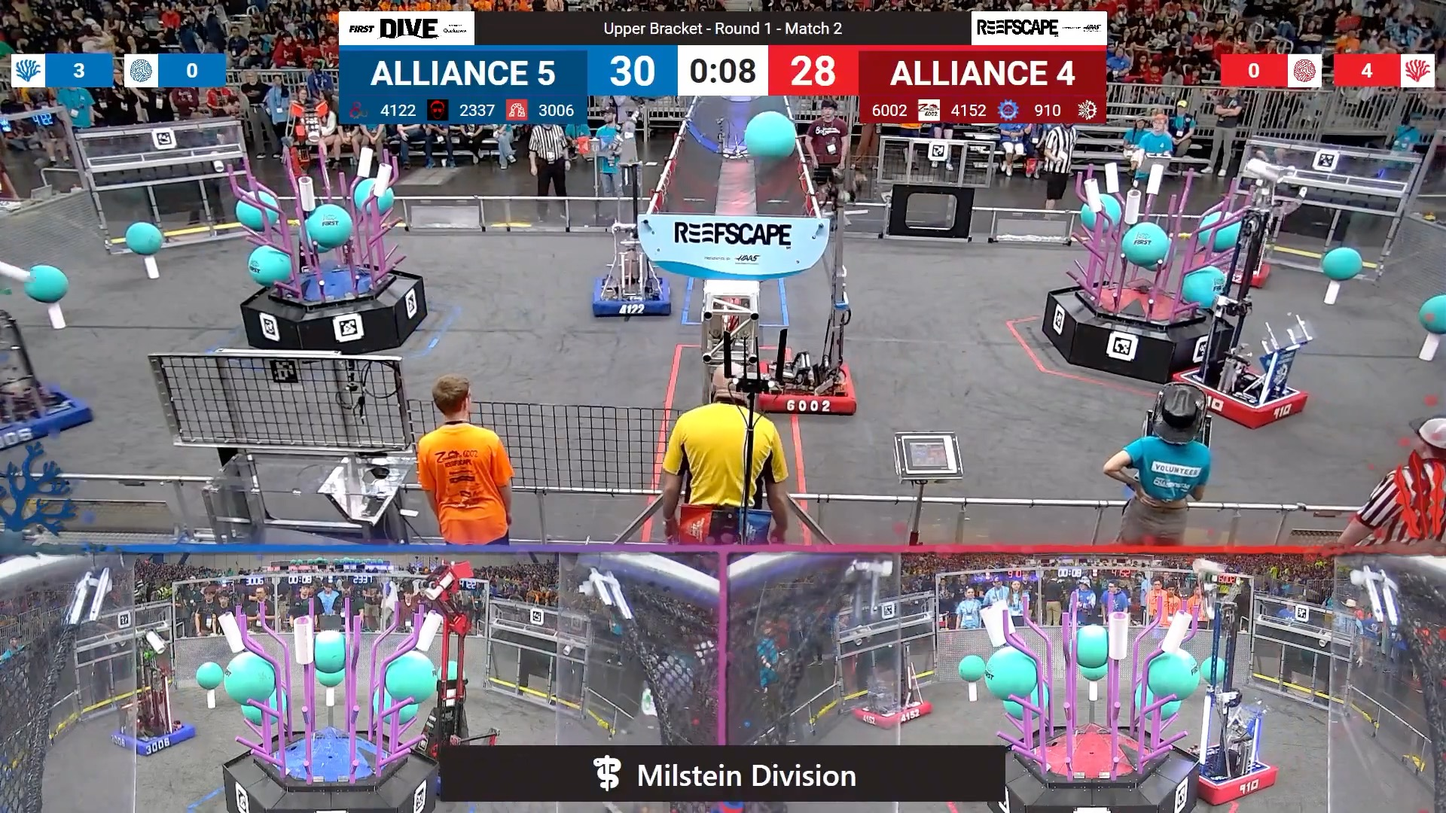bumpers: (1168, 372, 1315, 431), (0, 379, 99, 456), (753, 359, 861, 418), (1175, 753, 1283, 804), (587, 270, 676, 321), (106, 717, 202, 759), (850, 694, 935, 728)
